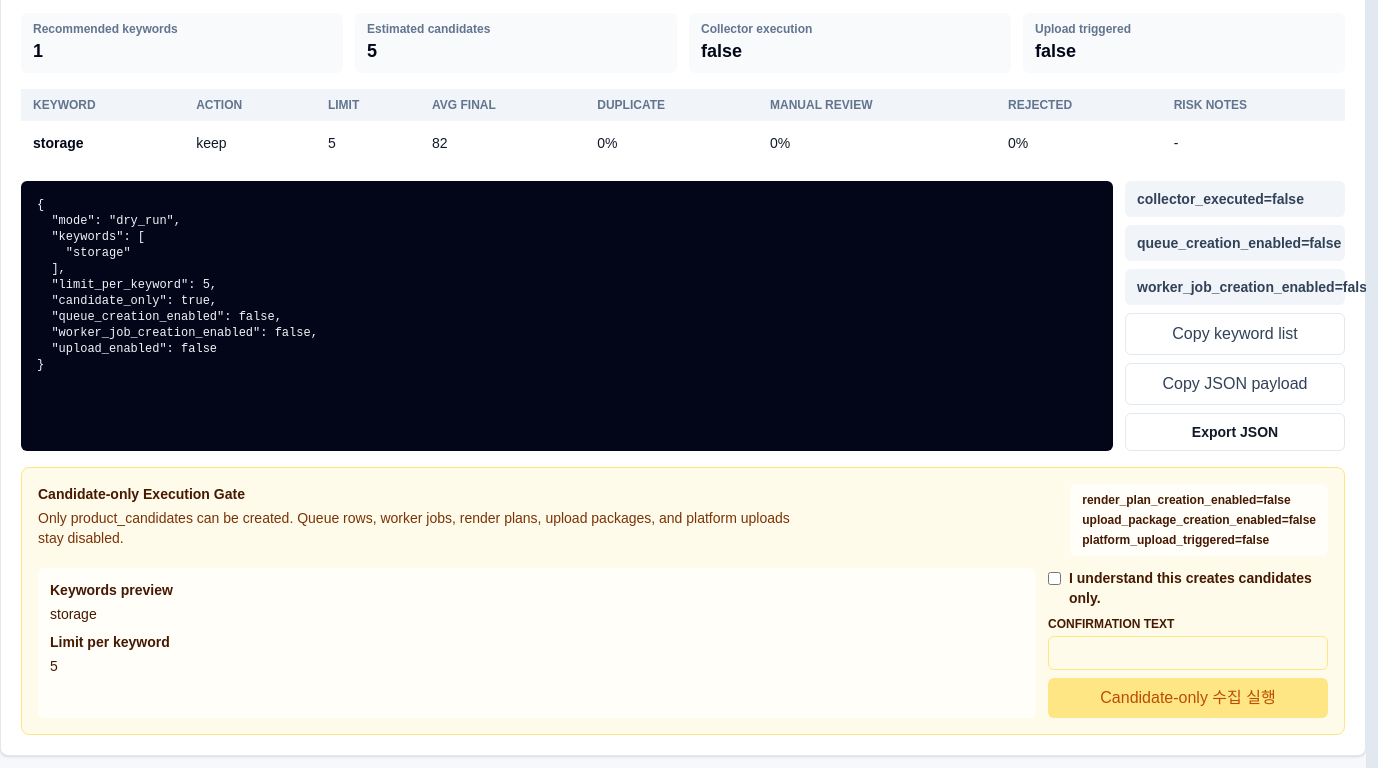
Test: candidate seed dry-run planner › renders seed planner controls with copy and export actions only
(page scrolled)
Expected: the button "Copy keyword list" is shown, [1125,313,1345,355]
Expected: the link "Export JSON" is shown, [1125,413,1345,451]
Click the button "Copy JSON payload": (1235, 384) [1125,363,1345,405]
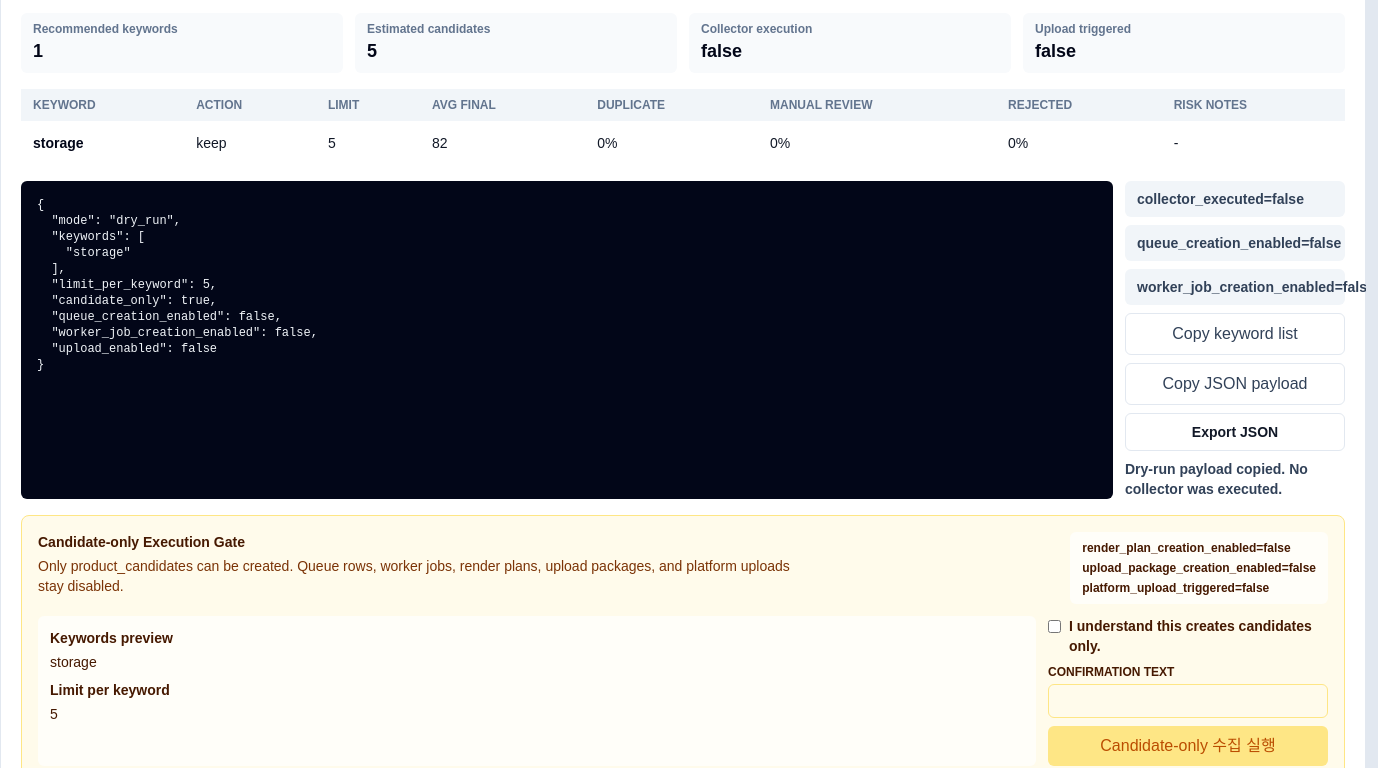
Now the text "Dry-run payload copied. No collector was executed." is shown, box [1125,461,1308,497]
